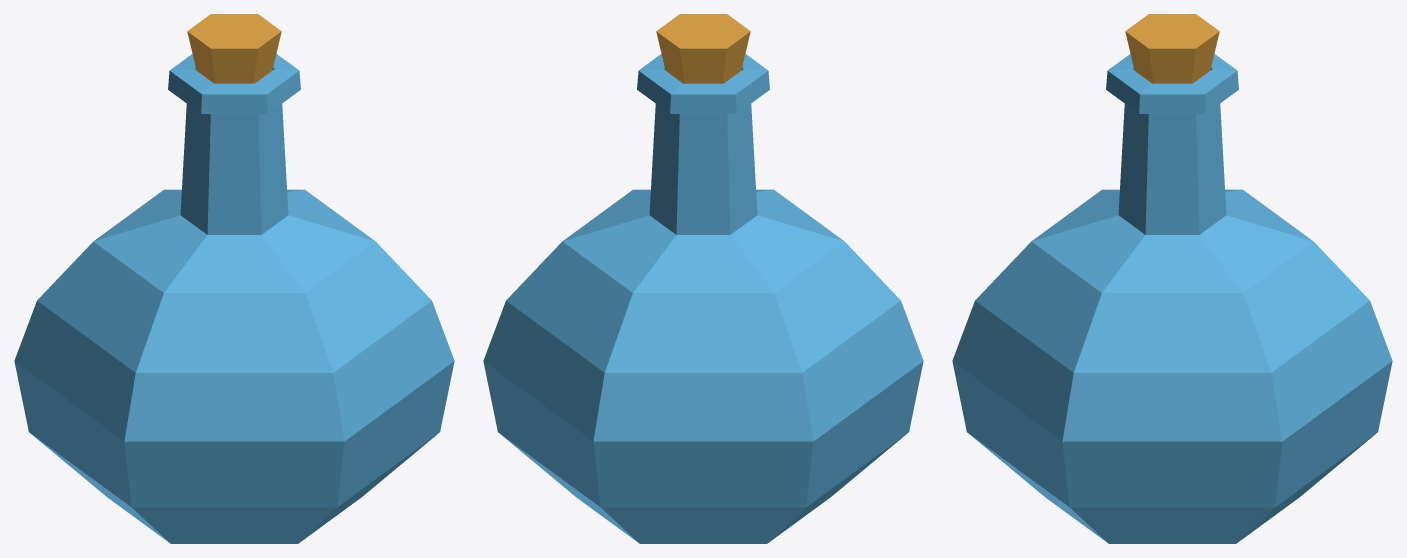
Rendered from SM_Bottle_Alchemy_B_Full.fbx.
3 views of the same model, side by side, from view 1: azimuth 30°, elevation 25°; view 2: azimuth 150°, elevation 25°; view 3: azimuth 270°, elevation 25° (orthographic).
Visible parts, largest first — view 1: bottle-alchemy-b-full; view 2: bottle-alchemy-b-full; view 3: bottle-alchemy-b-full.
Boxes of the visible parts, x1,y1,x2,y2 form: bottle-alchemy-b-full: (14,14,454,543); bottle-alchemy-b-full: (483,14,923,543); bottle-alchemy-b-full: (952,14,1392,543).
Size of the model in its own units: 0.1235 by 0.1749 by 0.1426.
